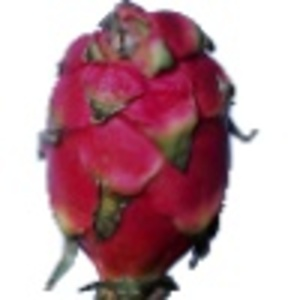pitaia: (35, 1, 258, 300)
